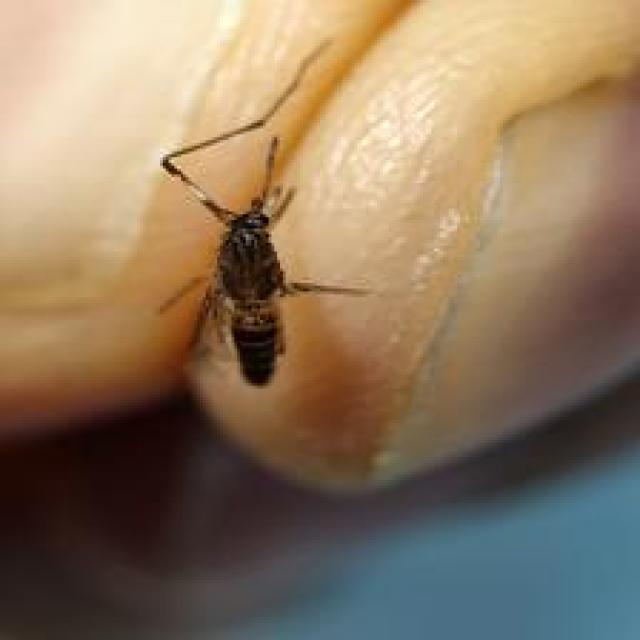Culex: (156, 130, 373, 387)
